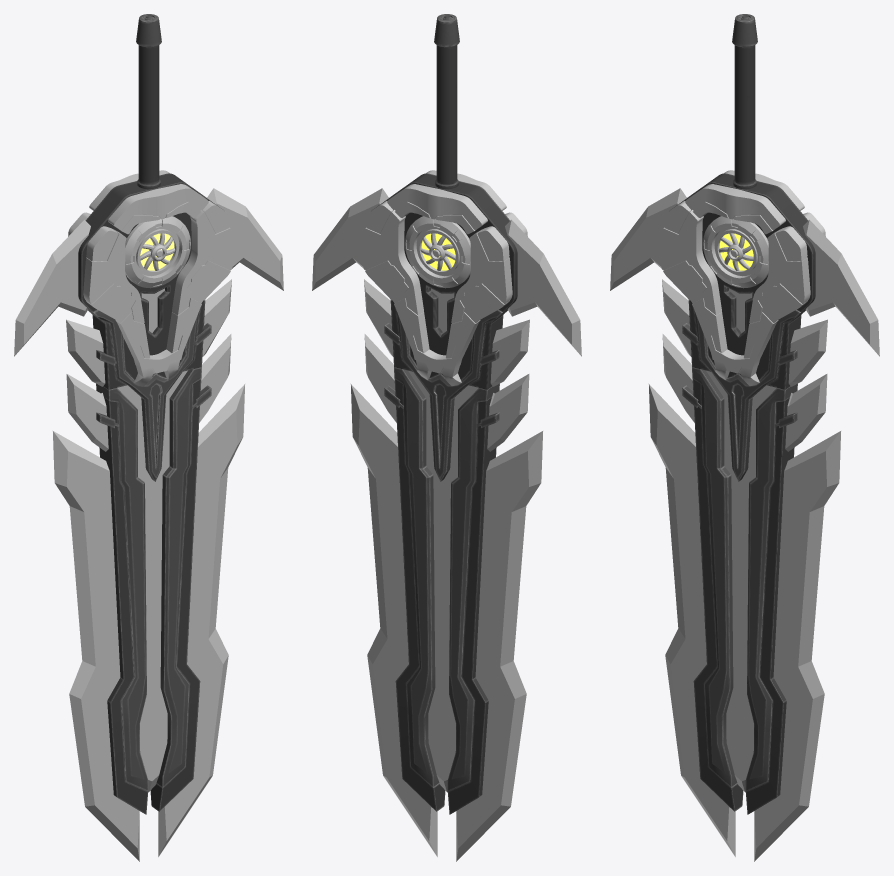
3 views of the same model, side by side, from view 1: azimuth 30°, elevation 25°; view 2: azimuth 150°, elevation 25°; view 3: azimuth 330°, elevation 25° (orthographic).
Visible parts, largest first — view 1: Blades.001, Blade Main 2.001, Blade Main.001, Reactor Corpus.007, Hndle.001, Reactor.001, Reactor Corpus.008, Hitch.001; view 2: Blades.001, Blade Main 2.001, Blade Main.001, Reactor Corpus.007, Hndle.001, Reactor.001, Reactor Corpus.008, Hitch.001; view 3: Blades.001, Blade Main 2.001, Blade Main.001, Reactor Corpus.007, Hndle.001, Reactor.001, Reactor Corpus.008, Hitch.001.
Boxes of the visible parts, x1=… form: Blades.001: x1=14, y1=188, x2=283, y2=861; Blade Main 2.001: x1=88, y1=309, x2=201, y2=791; Blade Main.001: x1=78, y1=173, x2=222, y2=814; Reactor Corpus.007: x1=68, y1=170, x2=233, y2=373; Hndle.001: x1=136, y1=14, x2=161, y2=189; Reactor.001: x1=125, y1=216, x2=190, y2=288; Reactor Corpus.008: x1=86, y1=201, x2=229, y2=386; Hitch.001: x1=96, y1=323, x2=211, y2=428; Blades.001: x1=312, y1=188, x2=581, y2=861; Blade Main 2.001: x1=394, y1=309, x2=507, y2=791; Blade Main.001: x1=373, y1=173, x2=517, y2=814; Reactor Corpus.007: x1=362, y1=170, x2=527, y2=373; Hndle.001: x1=434, y1=14, x2=459, y2=189; Reactor.001: x1=405, y1=216, x2=470, y2=288; Reactor Corpus.008: x1=366, y1=201, x2=509, y2=386; Hitch.001: x1=384, y1=323, x2=499, y2=428; Blades.001: x1=610, y1=188, x2=879, y2=861; Blade Main 2.001: x1=692, y1=309, x2=805, y2=791; Blade Main.001: x1=671, y1=173, x2=815, y2=814; Reactor Corpus.007: x1=660, y1=170, x2=825, y2=373; Hndle.001: x1=732, y1=14, x2=757, y2=189; Reactor.001: x1=703, y1=216, x2=768, y2=288; Reactor Corpus.008: x1=664, y1=201, x2=807, y2=386; Hitch.001: x1=682, y1=323, x2=797, y2=428.
Bounding box in the file's own units: 10.38 × 30.99 × 1.91.
